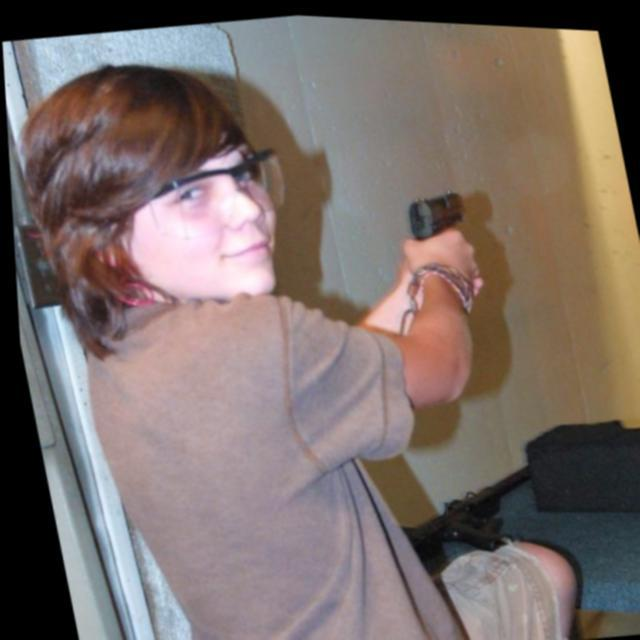weapon: (399, 180, 480, 241)
